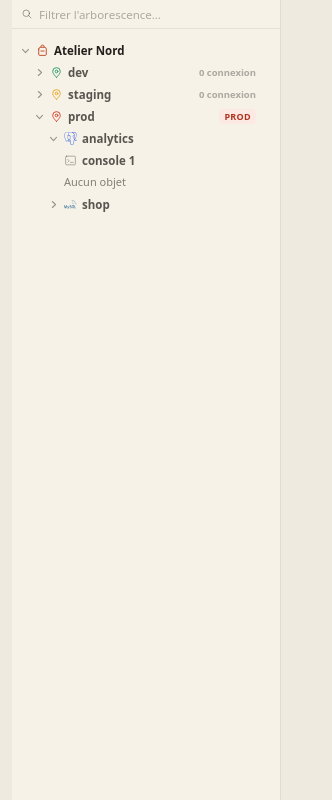
Test: un double-clic sur une console ouvre le champ de renommage
Double-click the list item "console 1" at (109, 160), box [12,149,280,171]
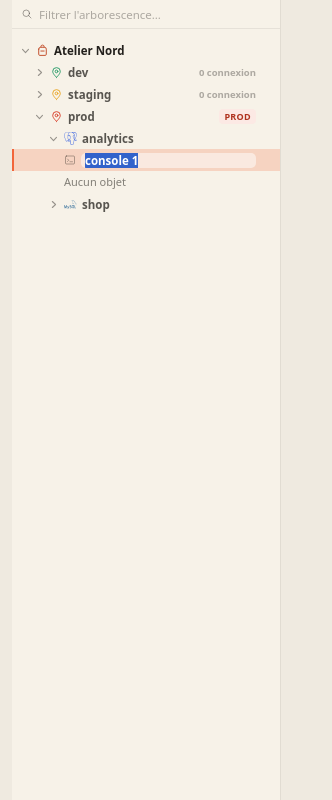
Result: the field named "Nouveau nom de console 1" holds "console 1" at [81,152,256,168]
